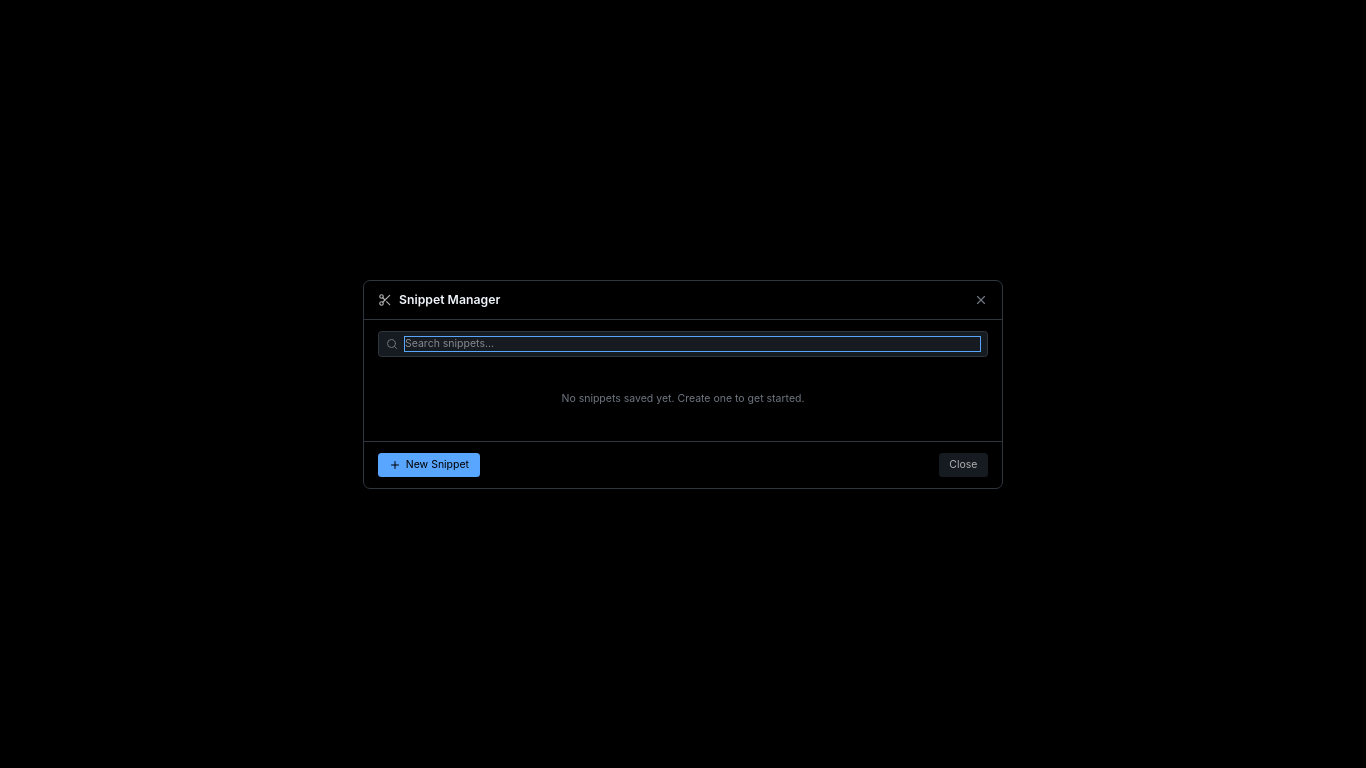
Test: SnippetManagerDialog › opens create form when New Snippet is clicked
The width and height of the screenshot is (1366, 768).
Click the button "New Snippet" at (429, 465), box [378,452,480,477]
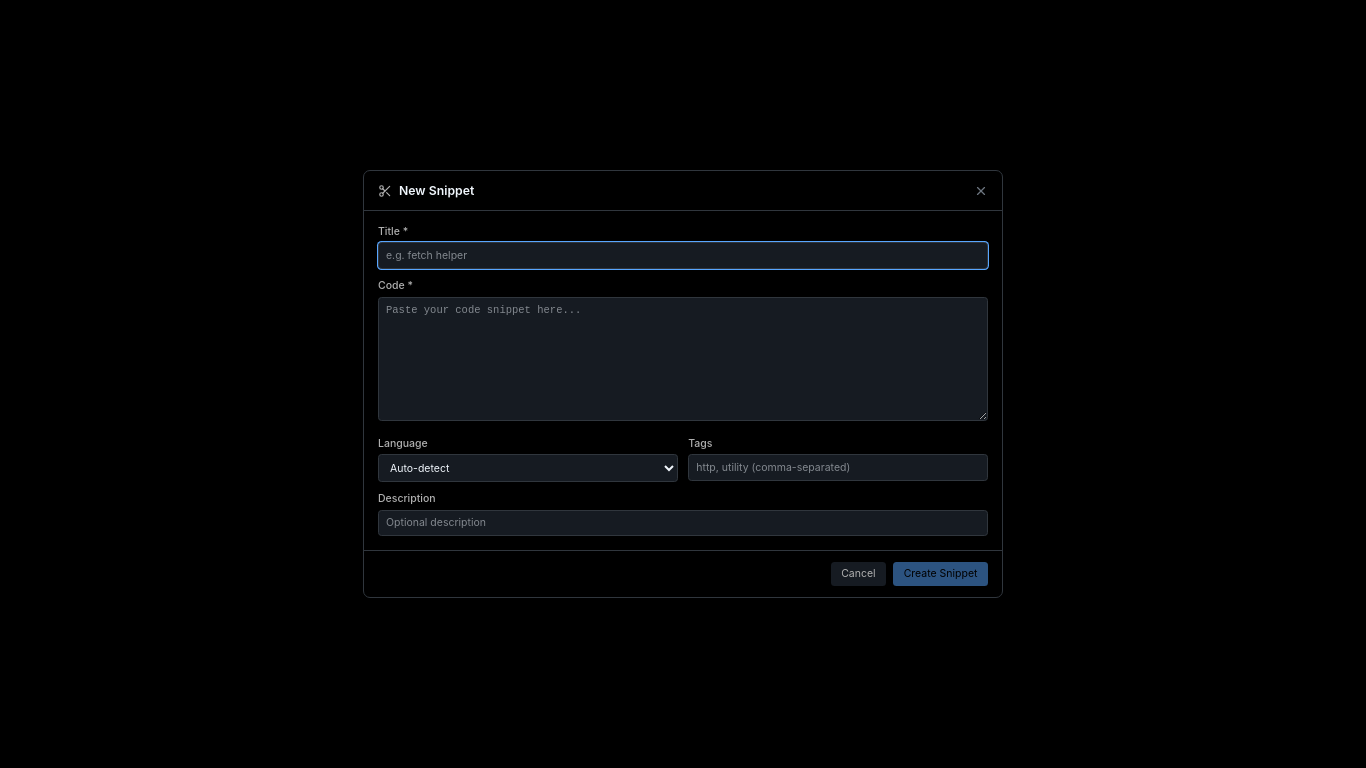
Now the field with placeholder "e.g. fetch helper" is shown, box [378,242,988,269]
Now the button "Create Snippet" is shown, box [893,562,988,586]
